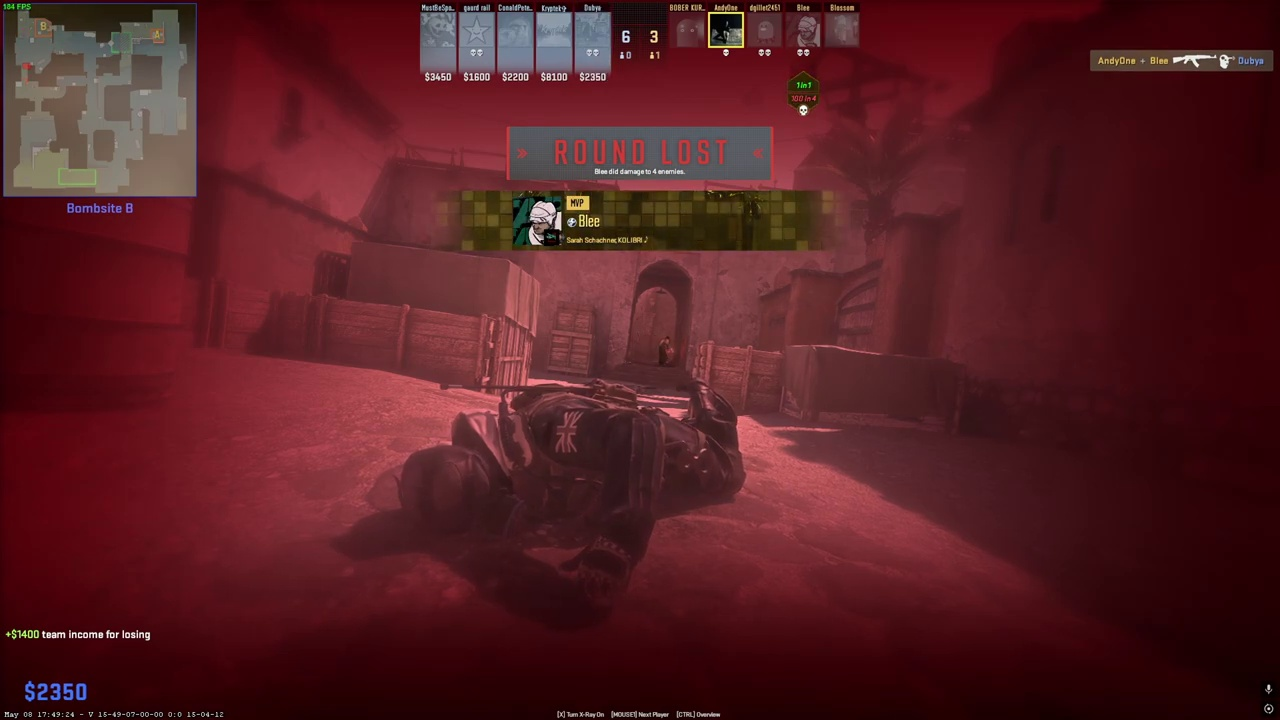Terrorist: (658, 336, 671, 366)
